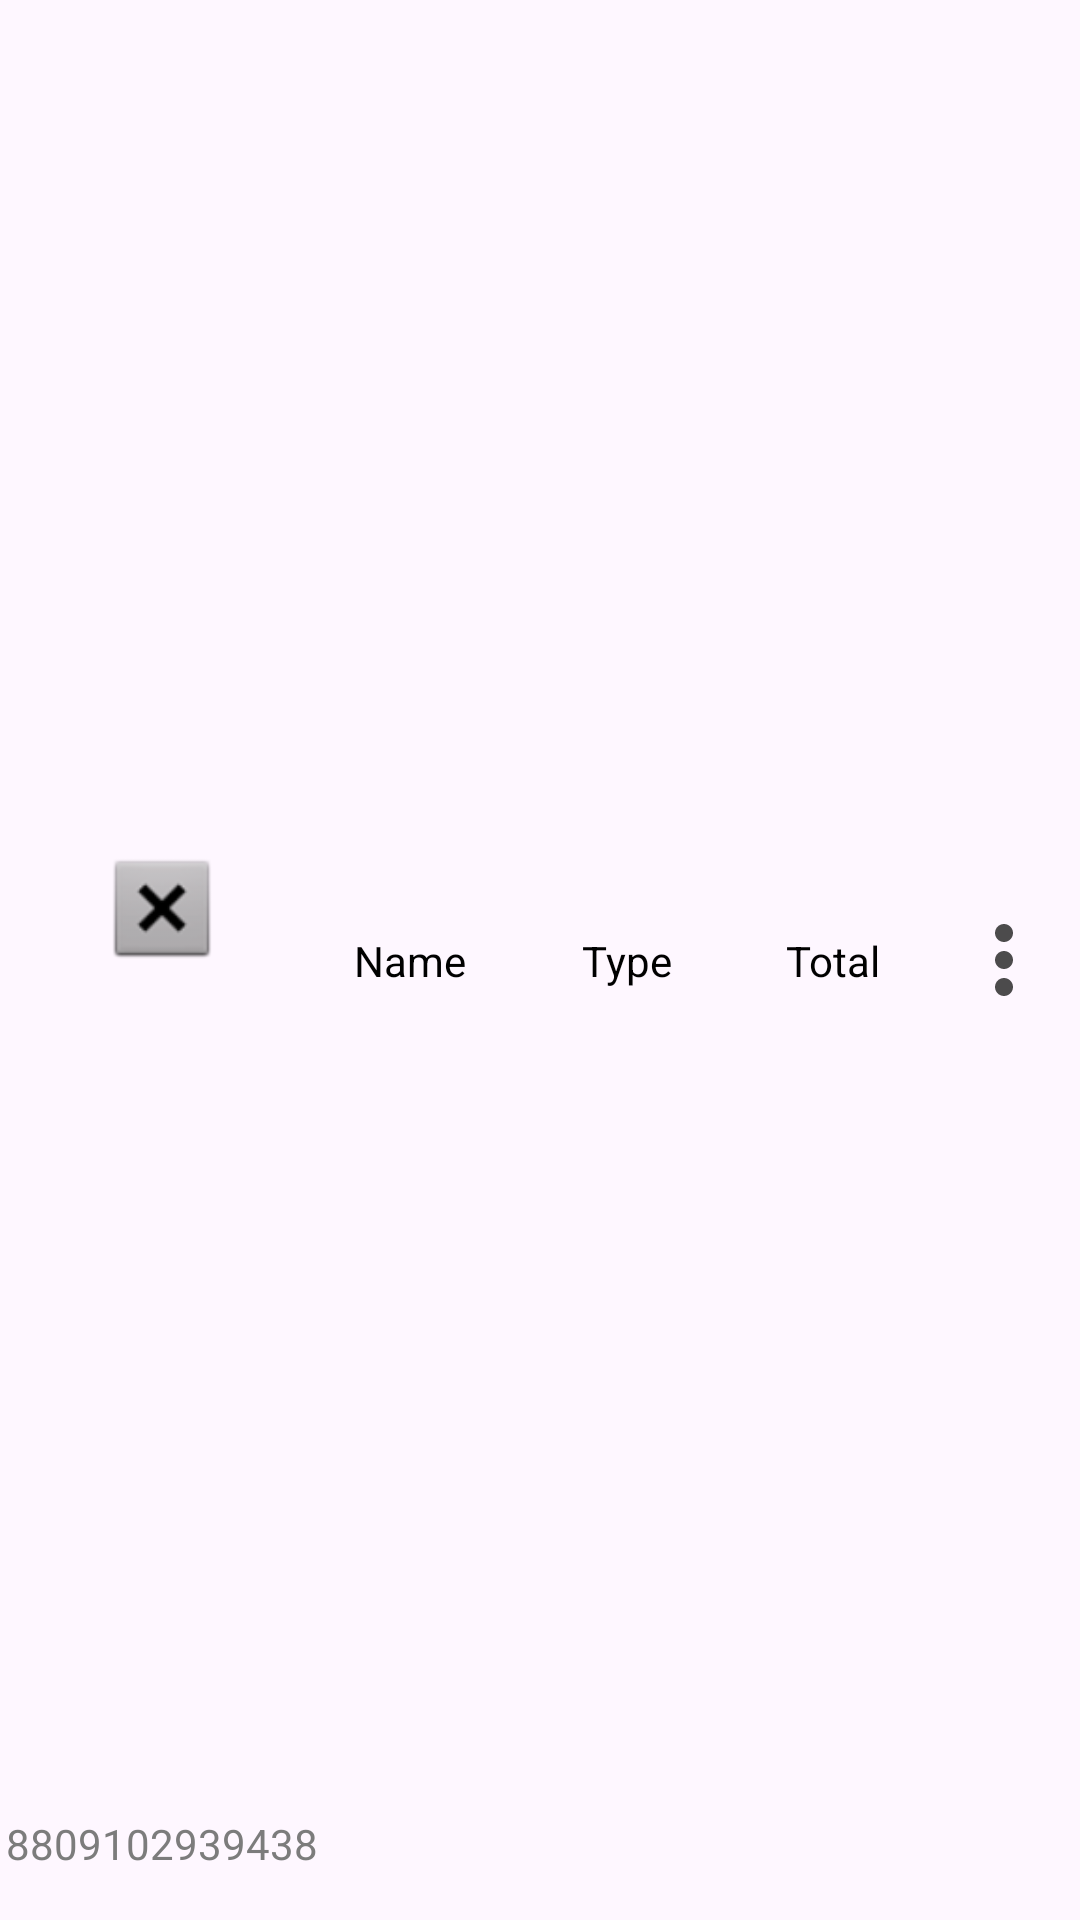

Named icons in this screenshot (1080×1920) and their bounding boxes, (x1, y1, x2, y2):
more vartcal: (995, 924, 1013, 996)
